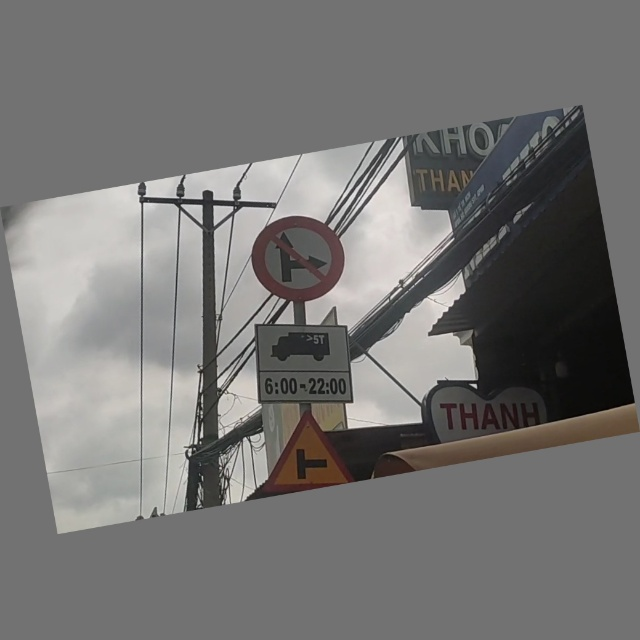P.139: (247, 209, 348, 308)
S.505a*Xe tai: (248, 312, 356, 411)
W.205b: (252, 405, 349, 499)
